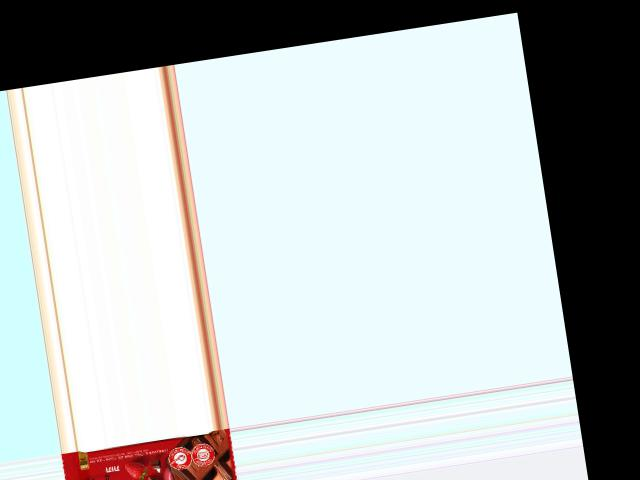chocolate: (59, 428, 239, 480)
